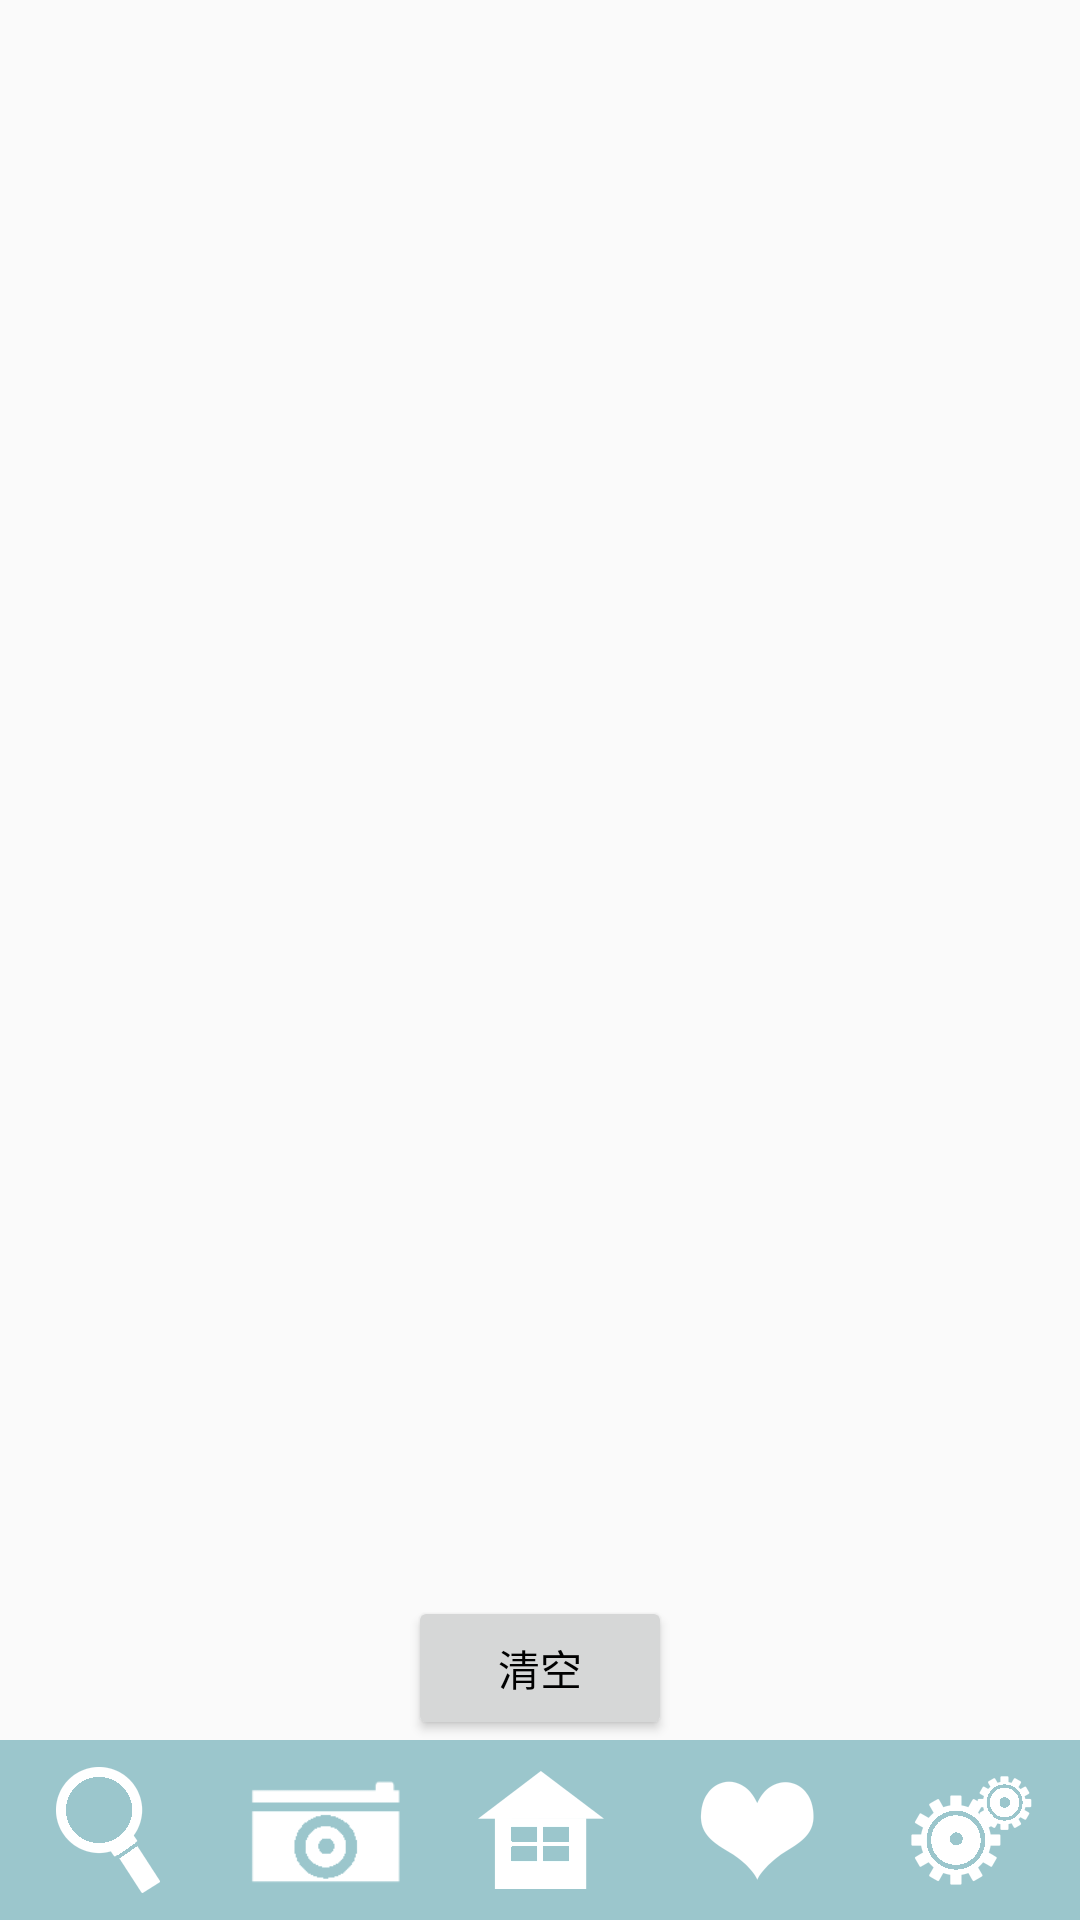

Named icons in this screenshot (1080 x 1920) and their centers, (x,y):
home: (541,1830)
like: (757,1830)
search: (108,1830)
setting: (971,1830)
